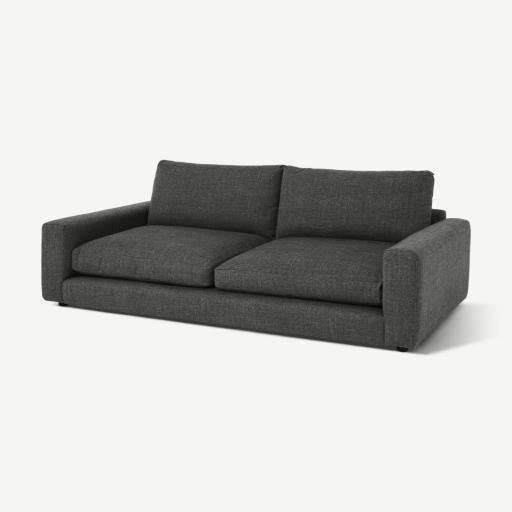back_cushion: (149, 160, 434, 242)
base: (64, 277, 384, 345)
left_arm: (382, 219, 470, 351)
legs: (397, 347, 408, 352), (58, 302, 67, 306)
right_arm: (42, 202, 149, 302)
seat_cushion: (72, 226, 388, 305)
two-seater: (0, 0, 511, 512)
